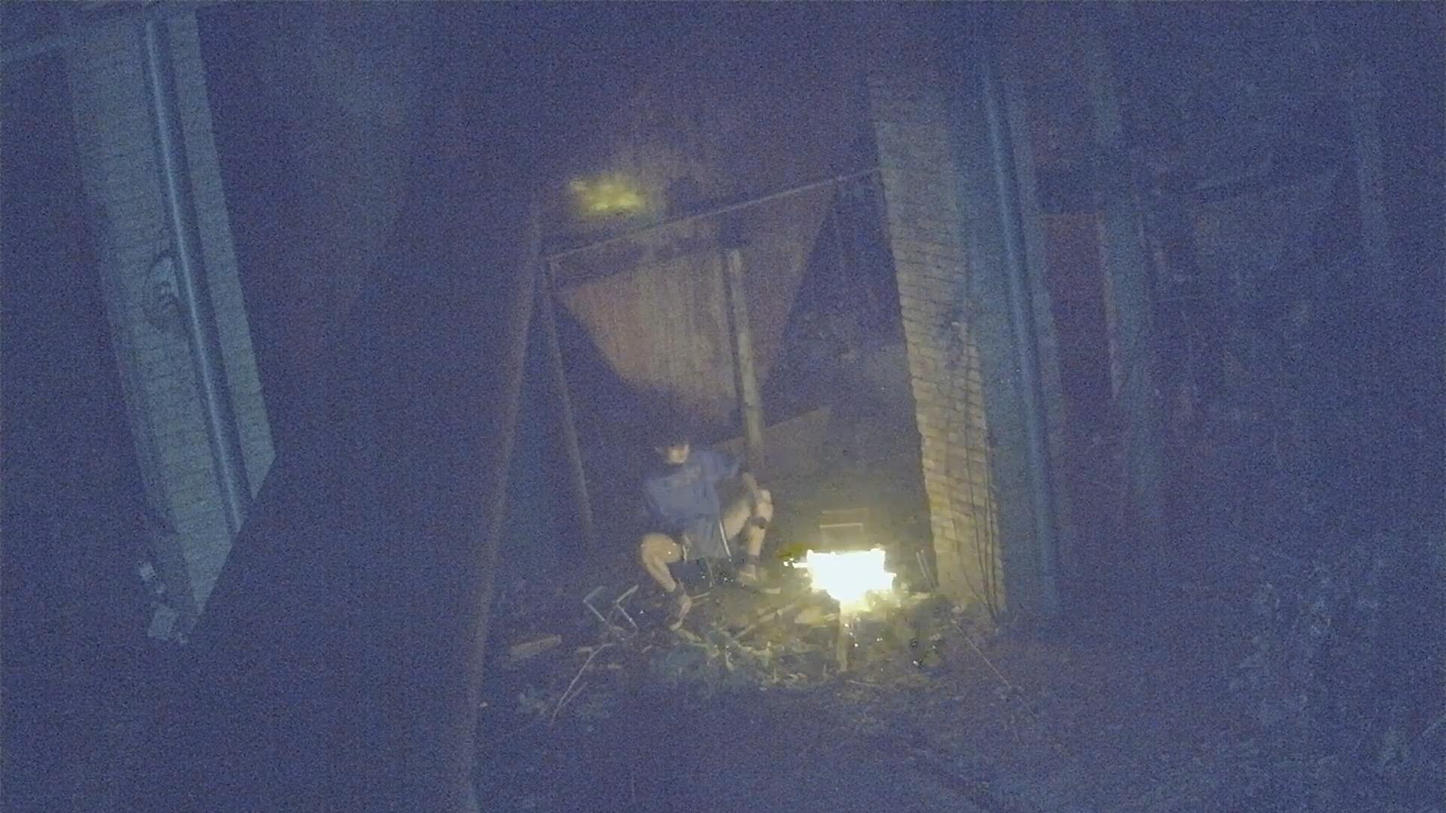fire: (802, 550, 895, 604)
